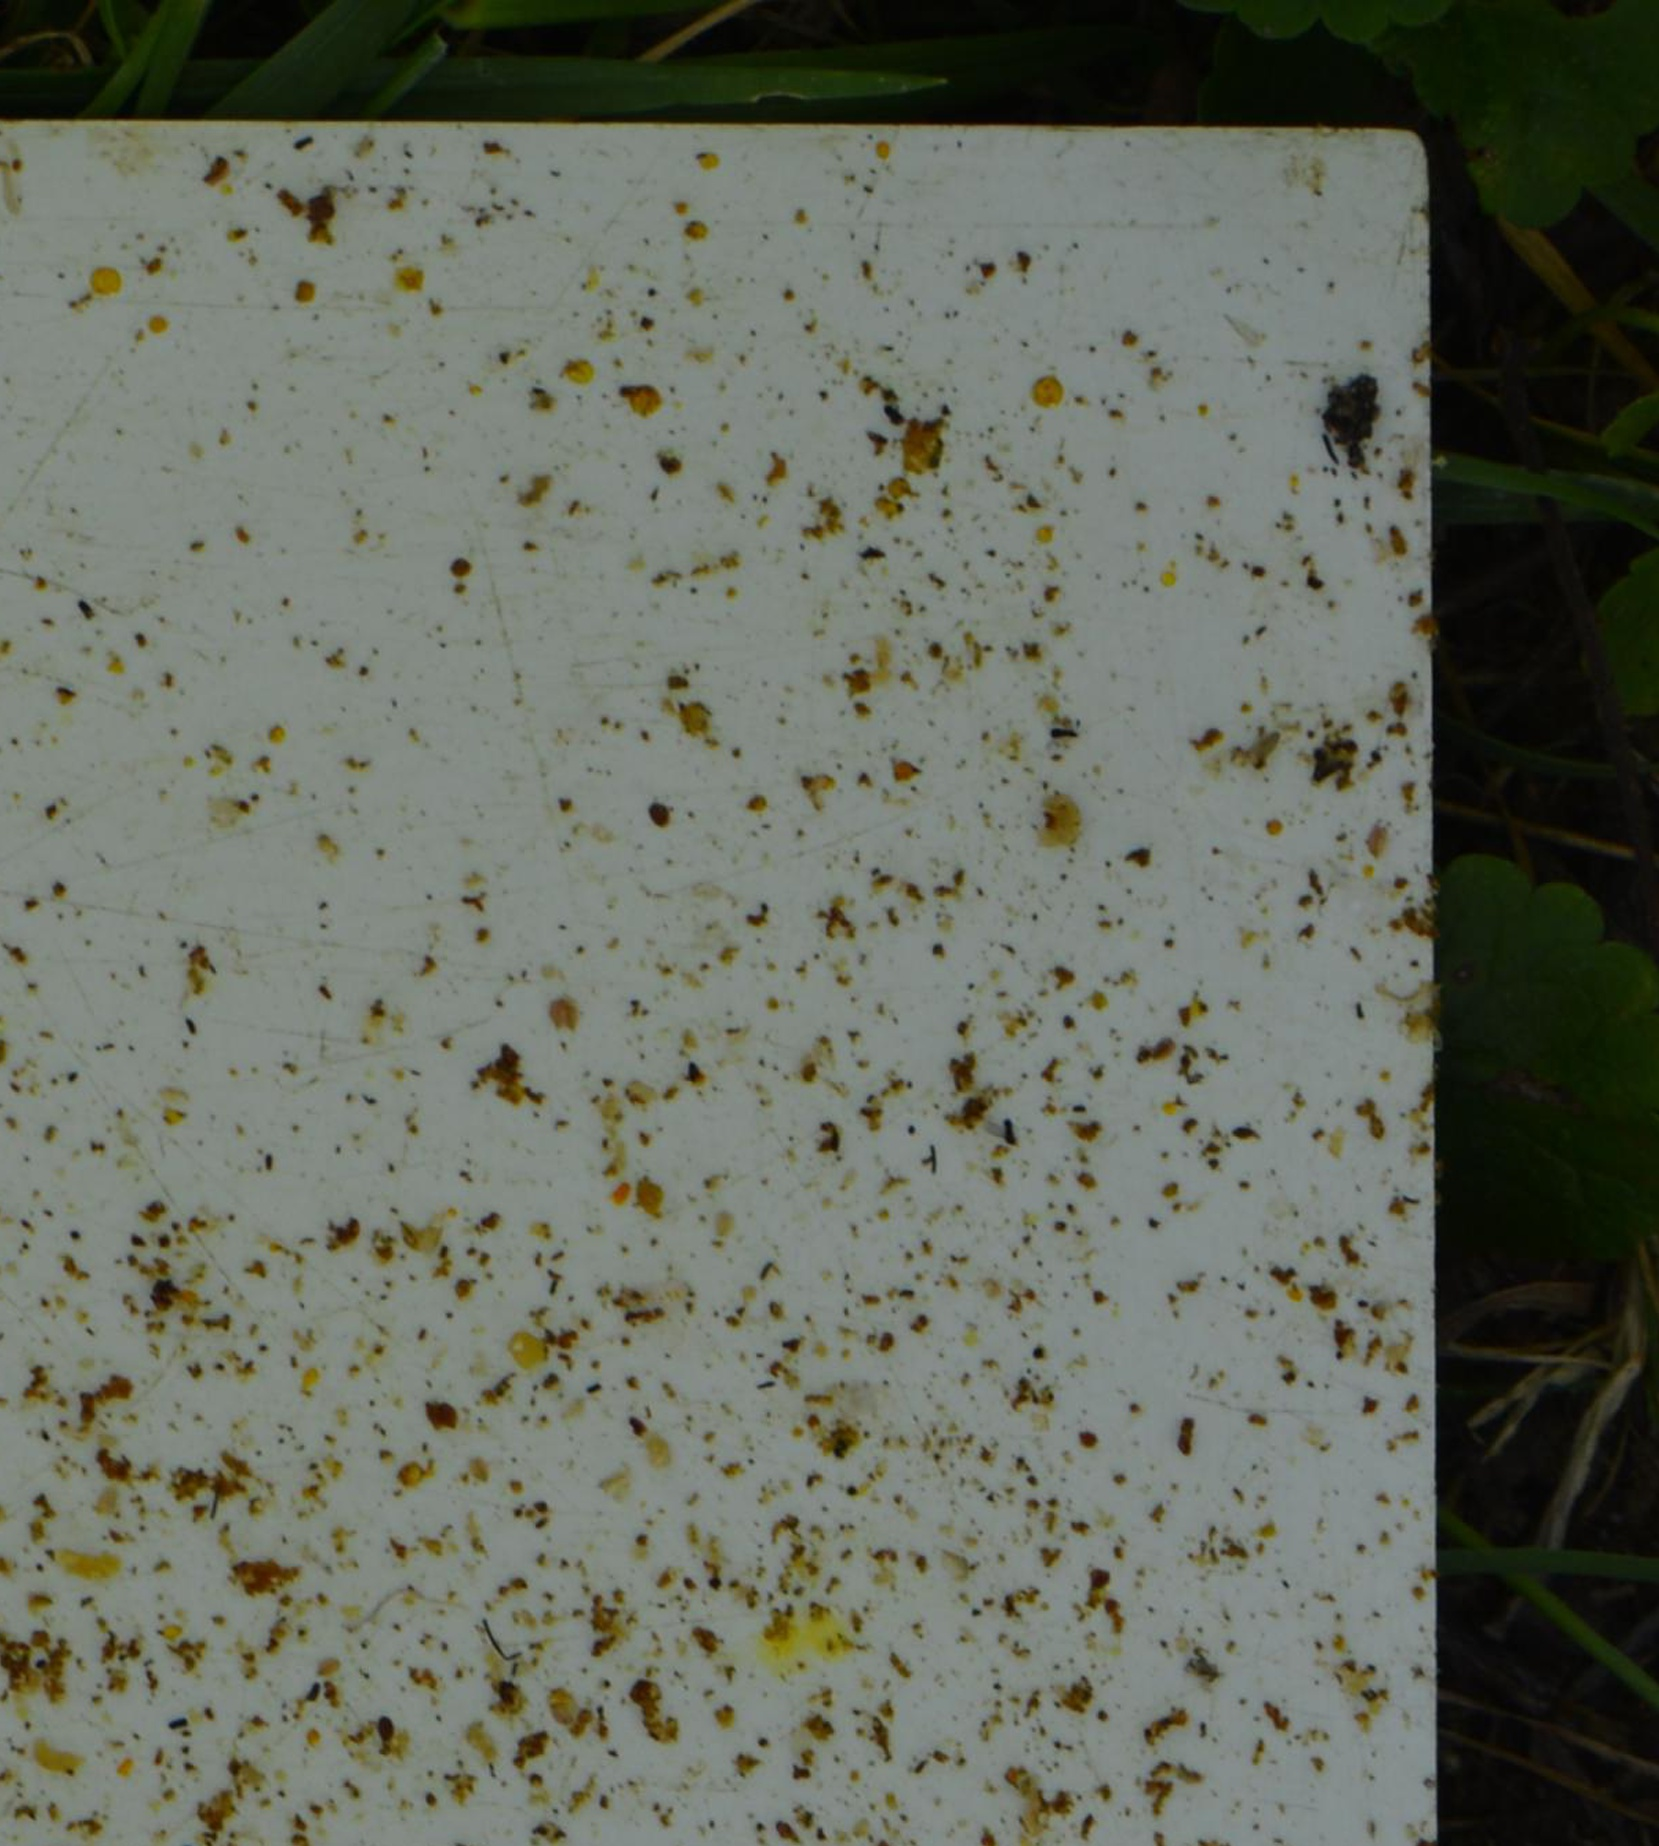Varroa: (368, 1718, 408, 1755), (644, 804, 674, 836)
